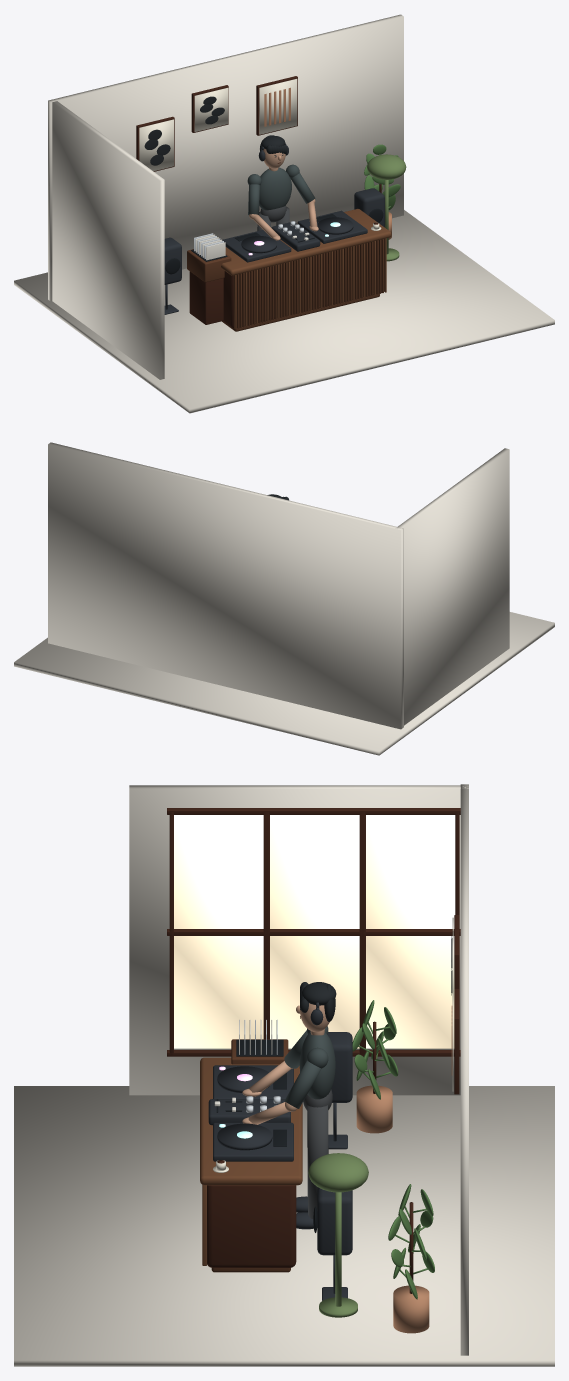
File: b2b-booth.glb
The picture shows the model from 3 angles, top to bottom: view 1: azimuth 30°, elevation 25°; view 2: azimuth 150°, elevation 25°; view 3: azimuth 270°, elevation 25°; orthographic projection. The views are drawn at different scales.
Visible parts, largest first — view 1: backWall, cafeFloor, windowWall, worktop, booth, printPaper2, crateStand, torso, printPaper0, printPaper1, crate, lampShade (+8 smaller); view 2: backWall, windowWall, cafeFloor; view 3: cafeFloor, windowWall, windowPane2, windowPane0, windowPane1, booth, backWall, worktop, windowCrossbar4.4, speakerR, windowCrossbar2.55, lampShade (+20 smaller).
Part boxes in pixels (box(x1,y1,x2,y2)): backWall: box(48, 14, 403, 301); cafeFloor: box(14, 210, 554, 413); windowWall: box(52, 101, 164, 379); worktop: box(221, 208, 391, 275); booth: box(223, 239, 384, 328); printPaper2: box(259, 78, 297, 134); crateStand: box(189, 271, 223, 324); torso: box(259, 167, 291, 210); printPaper0: box(139, 119, 173, 171); printPaper1: box(194, 87, 228, 131); crate: box(187, 249, 231, 282); lampShade: box(367, 154, 406, 179); backWall: box(48, 442, 403, 729); windowWall: box(396, 448, 509, 725); cafeFloor: box(14, 612, 554, 755); cafeFloor: box(14, 1086, 554, 1366); windowWall: box(129, 785, 468, 1095); windowPane2: box(174, 815, 263, 1048); windowPane0: box(366, 815, 455, 1048); windowPane1: box(270, 815, 359, 1048); booth: box(207, 1185, 296, 1267); backWall: box(460, 784, 468, 1355); worktop: box(200, 1057, 302, 1185); windowCrossbar4.4: box(167, 808, 460, 814); speakerR: box(317, 1187, 352, 1255); windowCrossbar2.55: box(167, 929, 460, 935); lampShade: box(308, 1153, 368, 1192).
Size of the model in its own units: 9 by 4.78 by 7.5.
